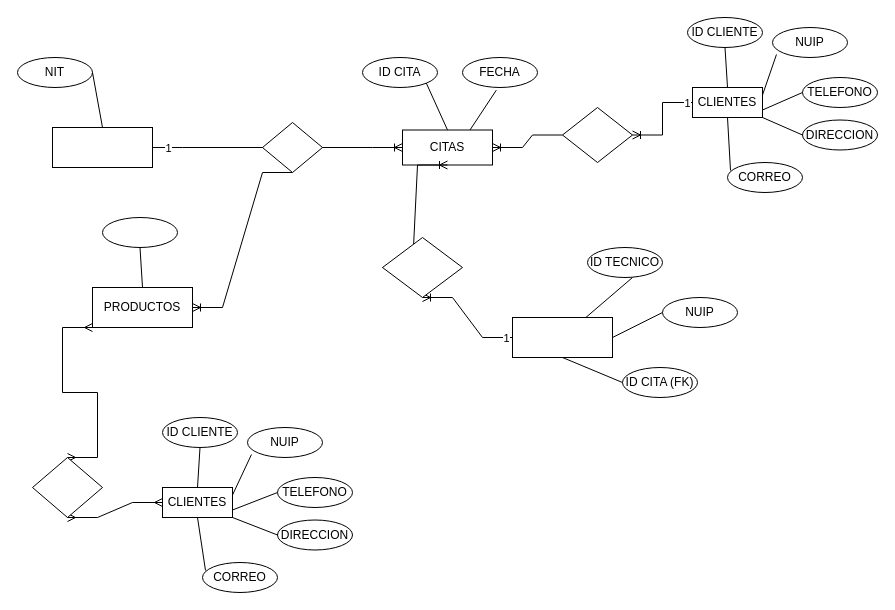
The diagram is 895 pixels wide and 610 high, and some of its shapes have lost their labels. Here are the shapes that lost their labels. From the top down, the box of each, then its label:
(52, 126, 152, 168): EMPRESA BICICLETAS CTM
(262, 122, 322, 172): VENDE
(562, 106, 632, 162): AGENDAN
(102, 216, 178, 248): ID PRODUCTO
(382, 236, 462, 298): REALIZAN
(512, 316, 612, 358): TECNICOS
(32, 456, 102, 518): COMPRAN
